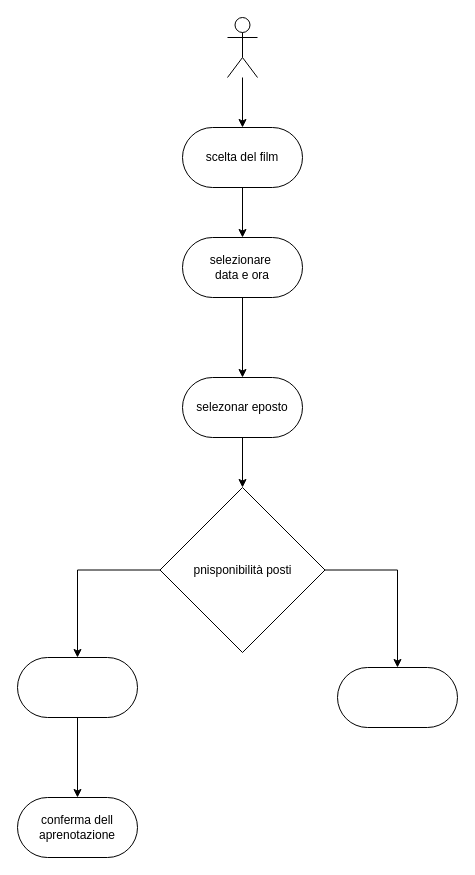
This 475x875 diagram has some shape labels left out. The shapes that lost their labels are listed below. From the top down, each one's box as (x1, y1, x2, y2) in pixels, then its label:
(226, 16, 258, 78): utente
(16, 656, 138, 718): pagamento
(336, 666, 458, 728): errore posti non disponibili
